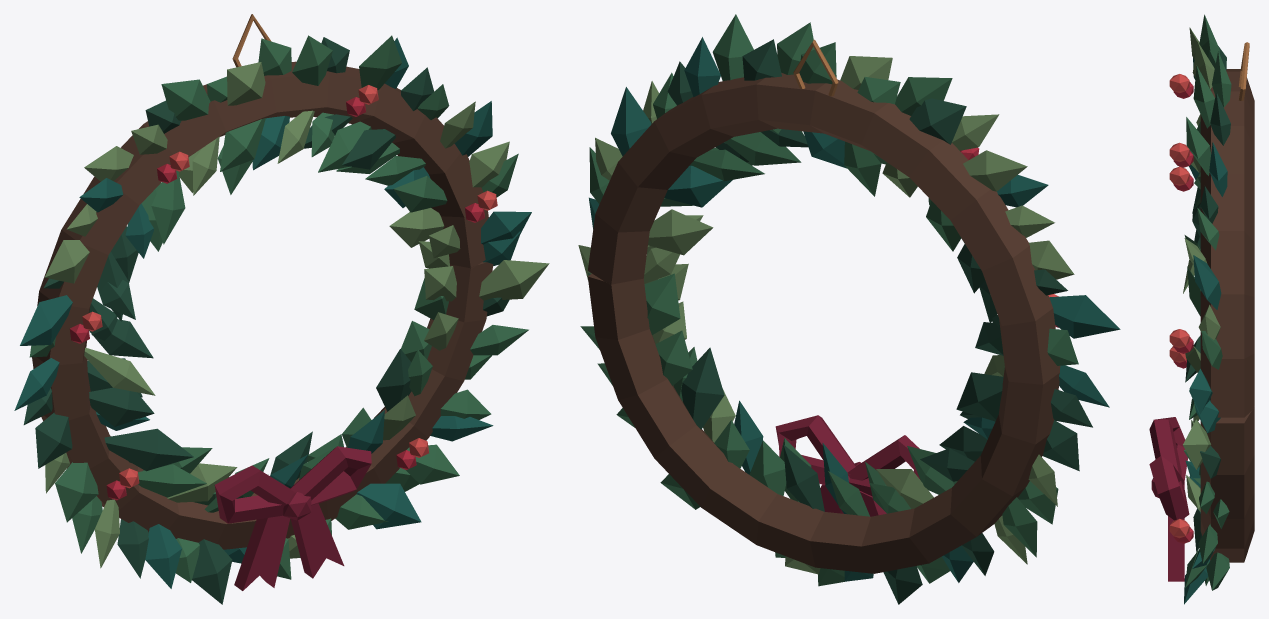
Rendered from wreath_hanging.glb.
3 renders of one model, left to right at view 1: azimuth 30°, elevation 25°; view 2: azimuth 150°, elevation 25°; view 3: azimuth 270°, elevation 25°, orthographic. The views are drawn at different scales.
Visible parts, largest first — view 1: wreath_hanging; view 2: wreath_hanging; view 3: wreath_hanging.
Part boxes in pixels (x1,y1,x2,y2): wreath_hanging: (14, 14, 549, 604); wreath_hanging: (578, 14, 1120, 604); wreath_hanging: (1149, 14, 1254, 604).
Size of the model in its own units: 0.6034 by 0.607 by 0.1076.
